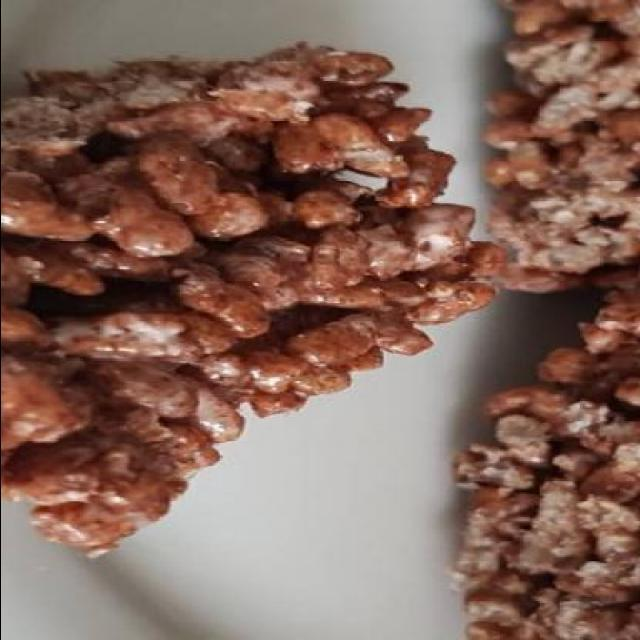Cereal bar packaged: (1, 23, 497, 549)
